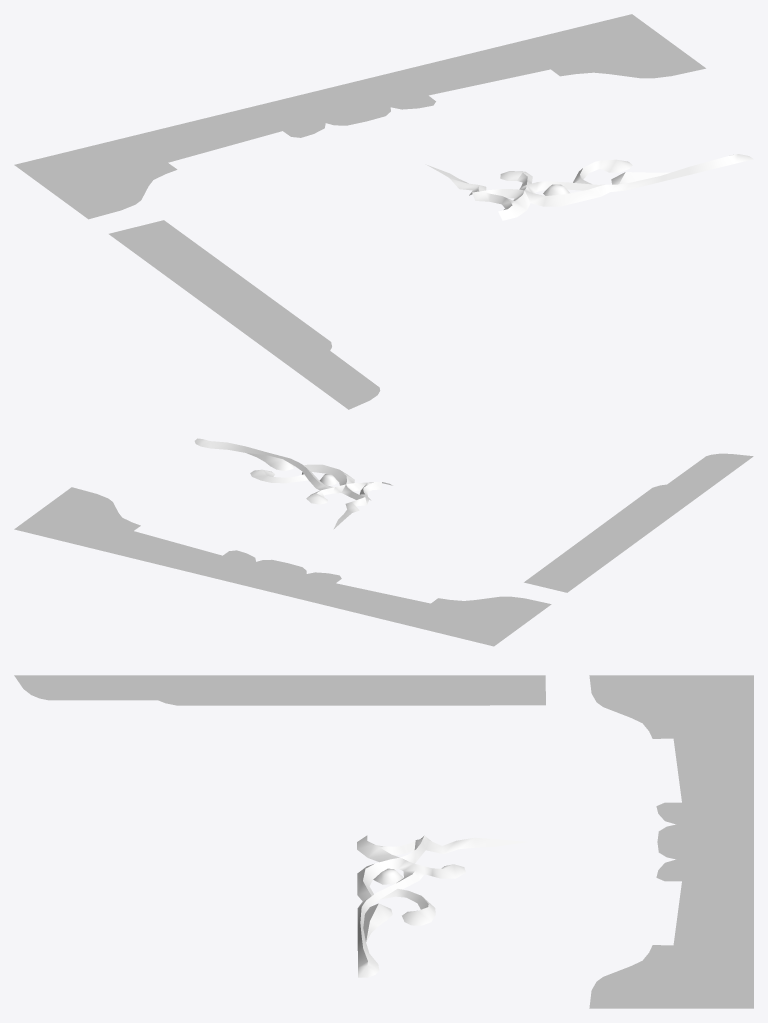
File: model_monumentoCurten.fbx
3 views of the same model, one above another, from view 1: azimuth 30°, elevation 25°; view 2: azimuth 150°, elevation 25°; view 3: azimuth 270°, elevation 25° (orthographic). The views are drawn at different scales.
Visible parts, largest first — view 1: curtainTop, curtainSide, monument; view 2: curtainTop, curtainSide, monument; view 3: curtainTop, curtainSide, monument.
Part boxes in pixels (x1=…): curtainTop: x1=14, y1=14, x2=705, y2=219; curtainSide: x1=109, y1=220, x2=380, y2=409; monument: x1=425, y1=154, x2=753, y2=220; curtainTop: x1=14, y1=487, x2=551, y2=646; curtainSide: x1=524, y1=453, x2=753, y2=592; monument: x1=194, y1=438, x2=392, y2=529; curtainTop: x1=589, y1=675, x2=753, y2=1008; curtainSide: x1=14, y1=675, x2=545, y2=705; monument: x1=357, y1=835, x2=527, y2=977.
Size of the model in its own units: 200 by 2.87 by 188.
